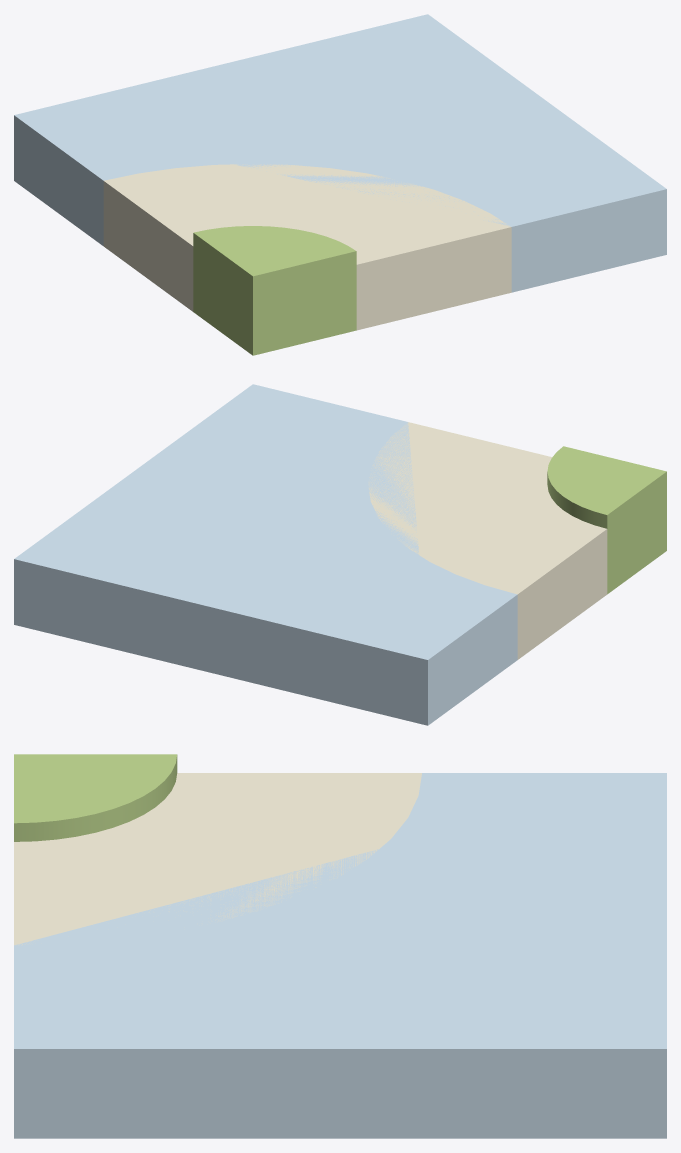
Rendered from roadTile_042.glb.
The picture shows the model from 3 angles, top to bottom: view 1: azimuth 30°, elevation 25°; view 2: azimuth 150°, elevation 25°; view 3: azimuth 270°, elevation 25°; orthographic projection. The views are drawn at different scales.
Visible parts, largest first — view 1: Mesh1 Group1 Model; view 2: Mesh1 Group1 Model; view 3: Mesh1 Group1 Model.
Part boxes in pixels (x1,y1,x2,y2): Mesh1 Group1 Model: (14,14,666,355); Mesh1 Group1 Model: (14,384,666,725); Mesh1 Group1 Model: (14,754,666,1138).
Size of the model in its own units: 3 by 0.55 by 3.
